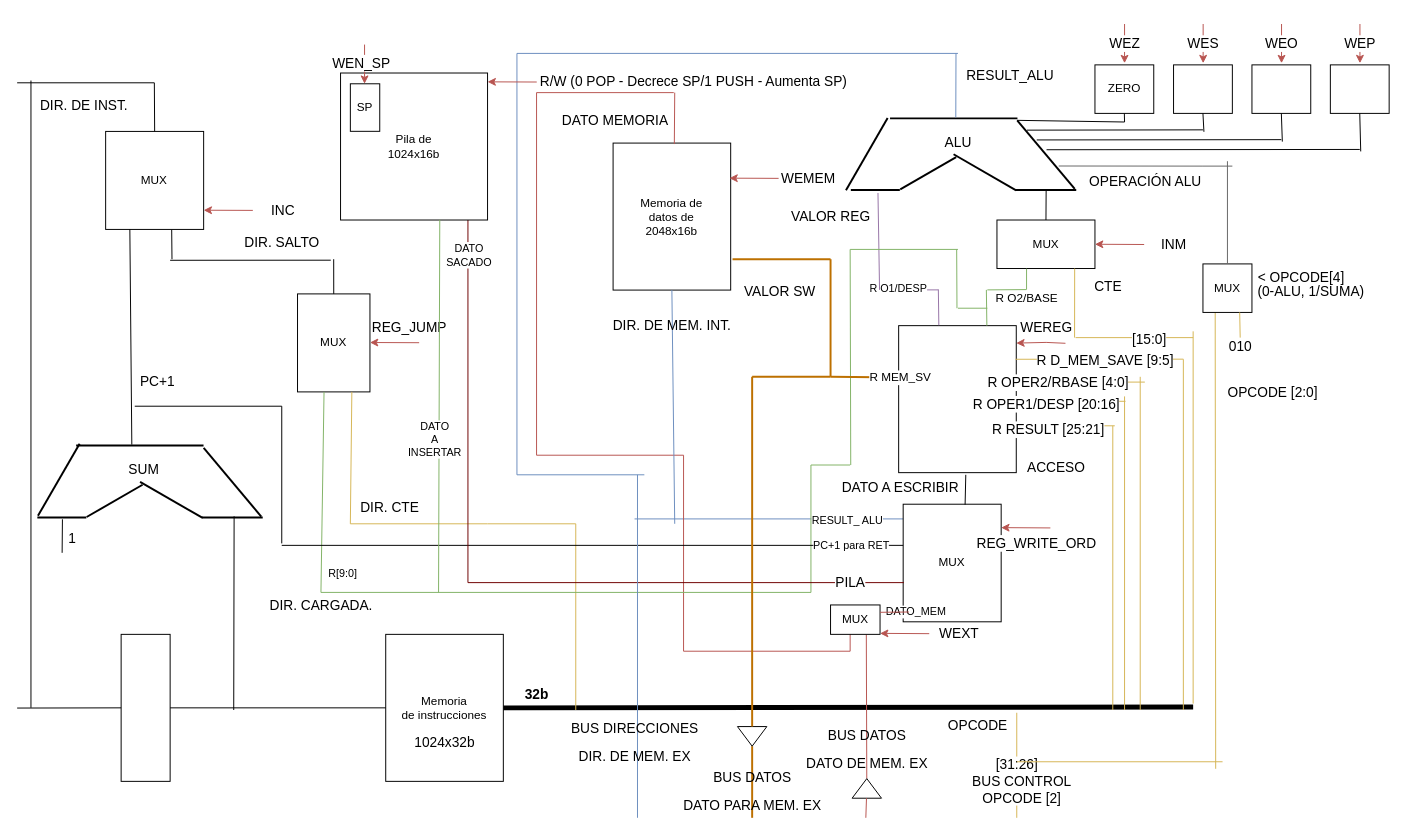
This 1406x837 diagram has some shape labels left out. Each missing label, with the centre of its shape:
"Banco registros" belongs at pixel 957 399.
"OVER FLOW" belongs at pixel 1281 88.
"PARITY" belongs at pixel 1359 88.
"PC" belongs at pixel 145 707.
"SIGN" belongs at pixel 1202 88.
